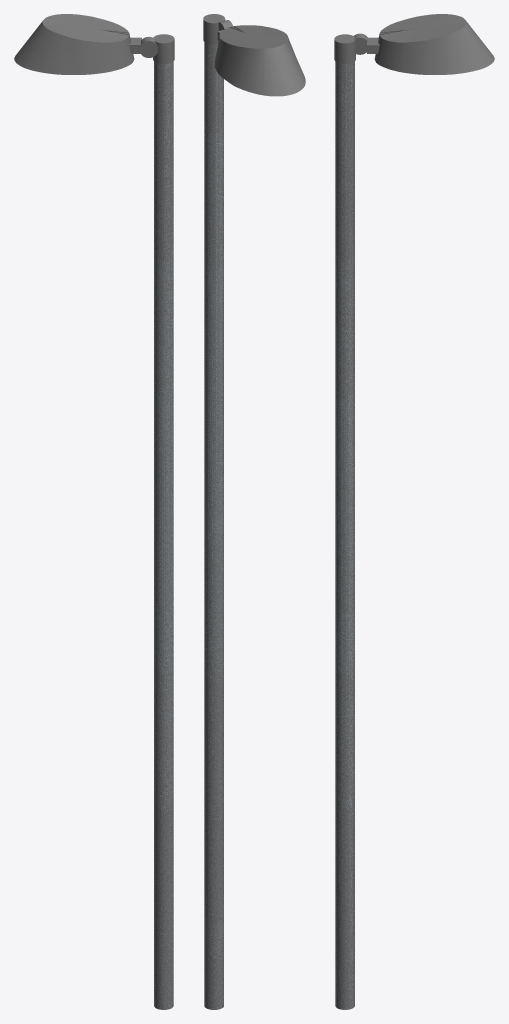
File: StreetLight.fbx
The picture shows the model from 3 angles, left to right: view 1: azimuth 90°, elevation 25°; view 2: azimuth 210°, elevation 25°; view 3: azimuth 270°, elevation 25°; orthographic projection. The views are drawn at different scales.
Parts seen in each view (by area): view 1: Lavina_System_LED_IGuzzini_Street_Light_3D1; view 2: Lavina_System_LED_IGuzzini_Street_Light_3D1; view 3: Lavina_System_LED_IGuzzini_Street_Light_3D1.
Boxes of the visible parts, x1=… form: Lavina_System_LED_IGuzzini_Street_Light_3D1: x1=14, y1=14, x2=174, y2=1009; Lavina_System_LED_IGuzzini_Street_Light_3D1: x1=203, y1=14, x2=305, y2=1009; Lavina_System_LED_IGuzzini_Street_Light_3D1: x1=334, y1=14, x2=494, y2=1009.
Size of the model in its own units: 19.62 by 280 by 41.38.
